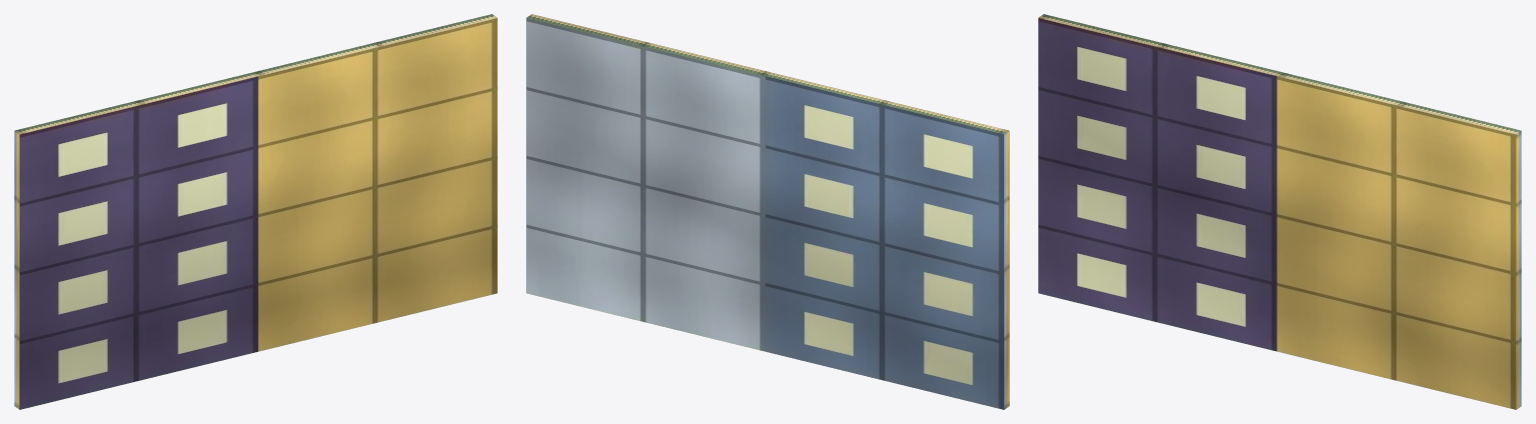
File: fence_metal.glb
3 views of the same model, side by side, from view 1: azimuth 30°, elevation 25°; view 2: azimuth 150°, elevation 25°; view 3: azimuth 330°, elevation 25° (orthographic).
Visible parts, largest first — view 1: col; view 2: col; view 3: col.
Part boxes in pixels (x1,y1,x2,y2): col: (14, 14, 497, 409); col: (526, 14, 1009, 409); col: (1038, 14, 1521, 409).
Bounding box in the file's own units: 2 × 1.1 × 0.0382.
1 material, 1 textured.
